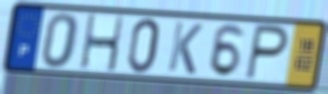0: (40, 11, 81, 71), (125, 16, 163, 76)
6: (207, 23, 246, 79)
H: (79, 12, 126, 74)
K: (165, 20, 205, 77)
P: (243, 22, 291, 83)
